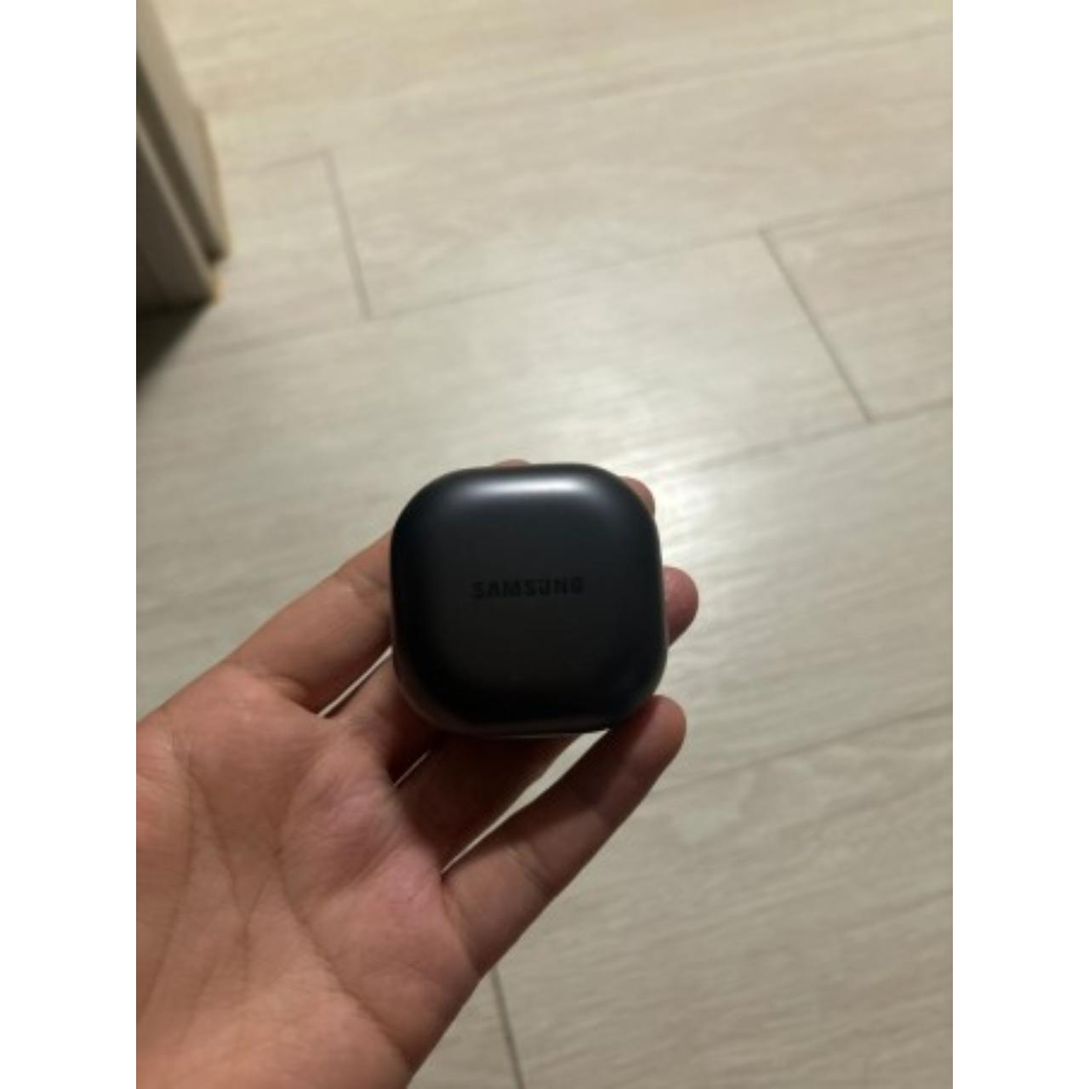Buds: (386, 459, 669, 737)
